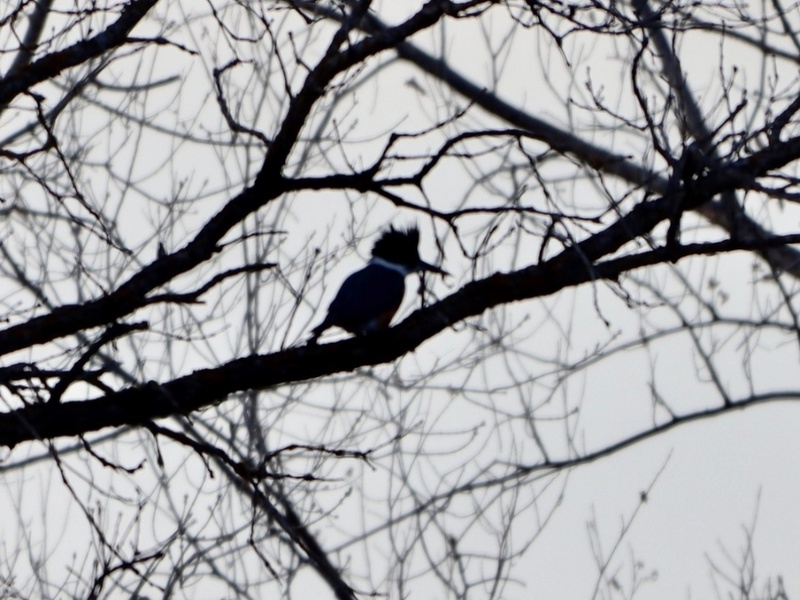kingfisher: (307, 224, 452, 350)
